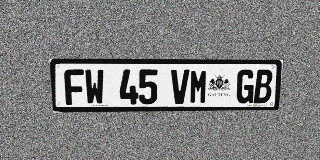4: (119, 69, 138, 104)
5: (139, 69, 158, 104)
B: (253, 69, 273, 103)
F: (64, 69, 85, 105)
G: (236, 69, 255, 103)
M: (189, 69, 208, 104)
V: (171, 69, 189, 104)
W: (84, 69, 105, 105)
